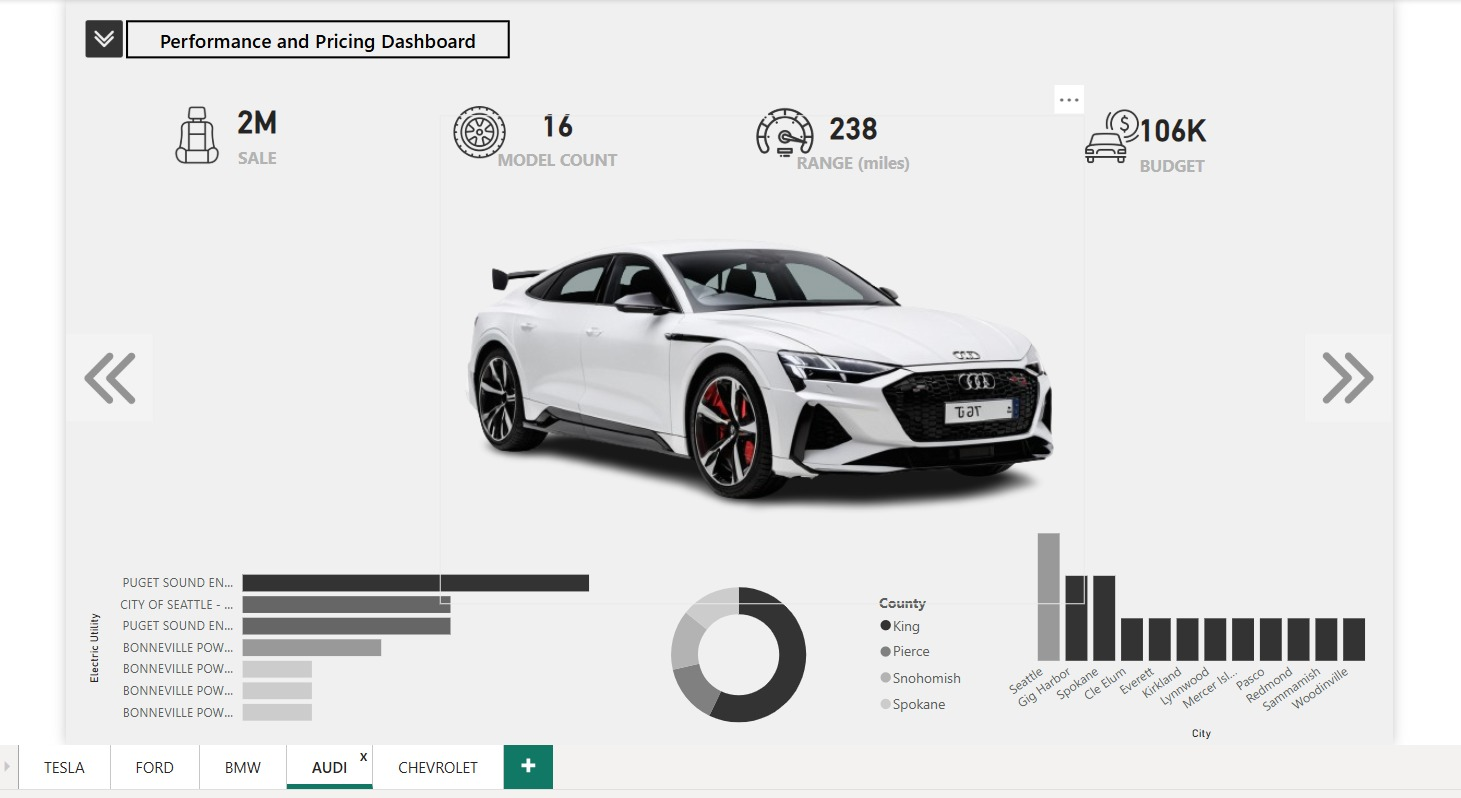

The page's visual inventory and layout, read from the dashboard file:
{"tool":"powerbi","page":{"name":"AUDI","canvas":[1280,720],"ordinal":3},"visuals":[{"type":"card","fields":{"Values":["Sum(new_cars_set2.Pricing($))"]},"box":[137.1,72.9,94.3,110.9],"z":0},{"type":"clusteredBarChart","fields":{"Category":["new_cars_set2.Electric Utility"],"Y":["CountNonNull(new_cars_set2.Electric Utility)"]},"box":[16.5,535,493.1,176],"z":1000},{"type":"clusteredColumnChart","fields":{"Category":["new_cars_set2.City"],"Y":["CountNonNull(new_cars_set2.City)"]},"box":[902.6,501.9,367.7,217.9],"z":2000},{"type":"donutChart","fields":{"Y":["CountNonNull(new_cars_set2.County)"],"Category":["new_cars_set2.County"]},"box":[509.7,546.6,368.6,173.1],"z":3000},{"type":"shape","box":[58.4,20.4,370.6,37],"z":4000},{"type":"image","box":[10.7,15.6,52.5,45.7],"z":5000},{"type":"image","box":[368.6,98.2,60.3,62.2],"z":6000},{"type":"image","box":[88.5,97.3,76.8,67.1],"z":7000},{"type":"image","box":[969.7,100.2,78.8,65.2],"z":8000},{"type":"image","box":[655.6,96.3,77.8,65.2],"z":9000},{"type":"card","fields":{"Values":["CountNonNull(new_cars_set2.Model)"]},"box":[398.8,55.4,149.8,150.8],"z":10000},{"type":"card","fields":{"Values":["Max(new_cars_set2.Electric Range(miles))"]},"box":[684.7,57.4,149.8,151.7],"z":11000},{"type":"card","fields":{"Values":["Max(new_cars_set2.Pricing($))"]},"box":[969.7,61.3,195.5,149.8],"z":12000},{"type":"image","box":[360.9,111.7,622.5,472.6],"z":13000},{"type":"actionButton","box":[1195.8,322.8,84.2,85.1],"z":14000},{"type":"actionButton","box":[0,322.8,84.2,85.1],"z":15000}]}

Visuals, with their boxes on the page's 1280x720 design canvas (x1, y1, x2, y2). These are canvas units, not pixel positions in the 1461x798 screenshot, which may show the page scaled, cropped or inside an application window:
card - Sum(new_cars_set2.Pricing($)): bbox=(137, 73, 231, 184)
clusteredBarChart - new_cars_set2.Electric Utility x CountNonNull(new_cars_set2.Electric Utility): bbox=(16, 535, 510, 711)
clusteredColumnChart - new_cars_set2.City x CountNonNull(new_cars_set2.City): bbox=(903, 502, 1270, 720)
donutChart - CountNonNull(new_cars_set2.County) x new_cars_set2.County: bbox=(510, 547, 878, 720)
shape: bbox=(58, 20, 429, 57)
image: bbox=(11, 16, 63, 61)
image: bbox=(369, 98, 429, 160)
image: bbox=(88, 97, 165, 164)
image: bbox=(970, 100, 1048, 165)
image: bbox=(656, 96, 733, 162)
card - CountNonNull(new_cars_set2.Model): bbox=(399, 55, 549, 206)
card - Max(new_cars_set2.Electric Range(miles)): bbox=(685, 57, 834, 209)
card - Max(new_cars_set2.Pricing($)): bbox=(970, 61, 1165, 211)
image: bbox=(361, 112, 983, 584)
actionButton: bbox=(1196, 323, 1280, 408)
actionButton: bbox=(0, 323, 84, 408)
